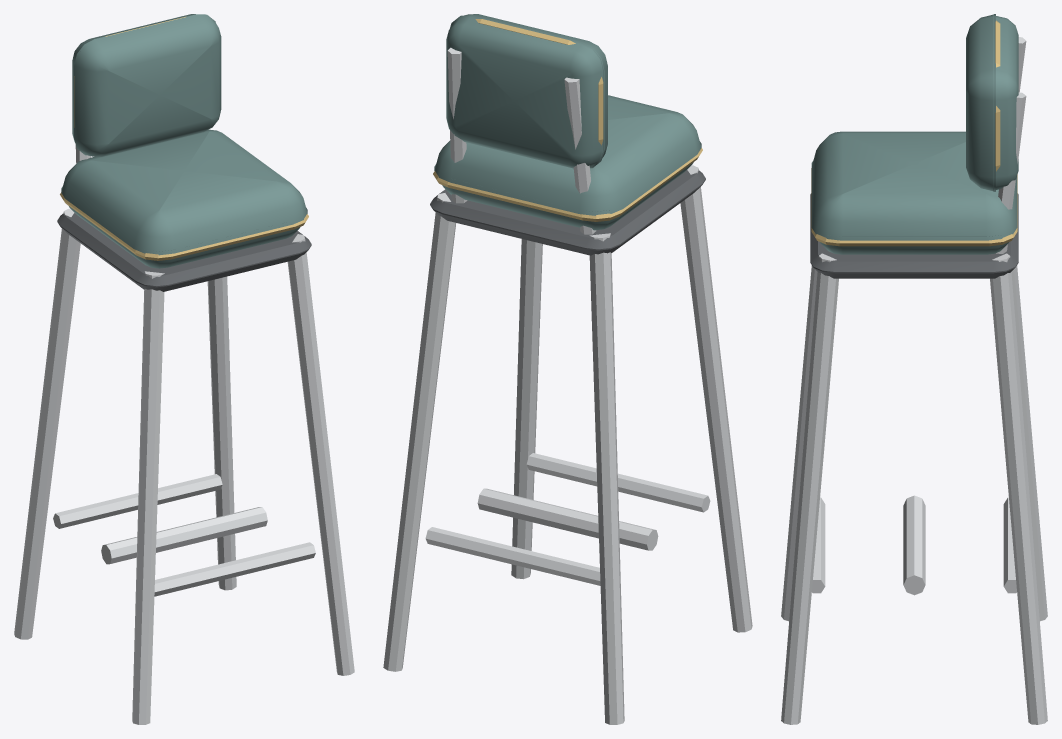
The model's file is restaurant-kitchen-and-dining-bar-stool-91472ef4__16506.glb.
3 views of the same model, side by side, from view 1: azimuth 30°, elevation 25°; view 2: azimuth 150°, elevation 25°; view 3: azimuth 270°, elevation 25° (orthographic). The views are drawn at different scales.
Visible parts, largest first — view 1: bar-stool; view 2: bar-stool; view 3: bar-stool.
Part boxes in pixels (box(x1,y1,x2,y2)): bar-stool: box(14, 14, 354, 724); bar-stool: box(383, 14, 752, 724); bar-stool: box(781, 14, 1047, 724).
Bounding box in the file's own units: 0.4099 × 1.06 × 0.4099.
